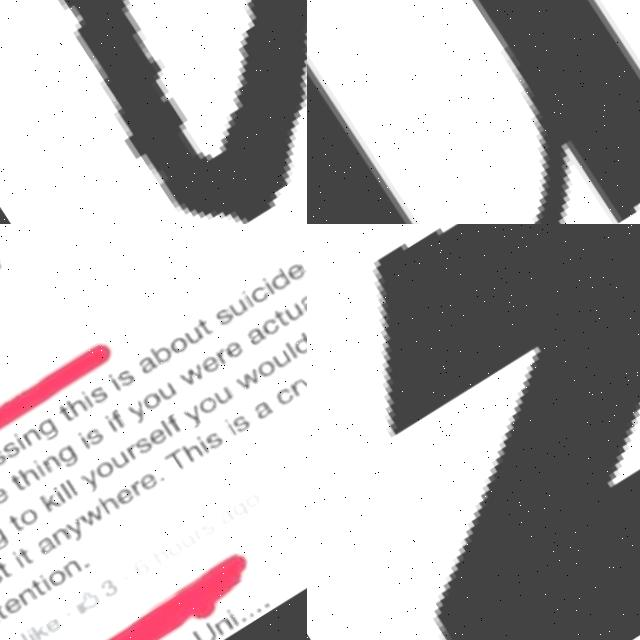3: (93, 574, 115, 598)
6: (123, 554, 148, 579)
A: (0, 0, 307, 224)
U: (307, 0, 640, 224)
Z: (307, 224, 640, 640)
